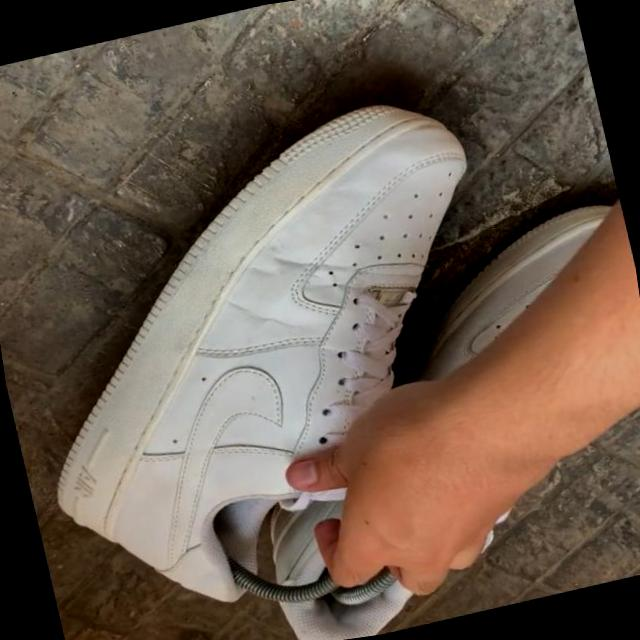nike_fake_airforce: (0, 75, 591, 640)
